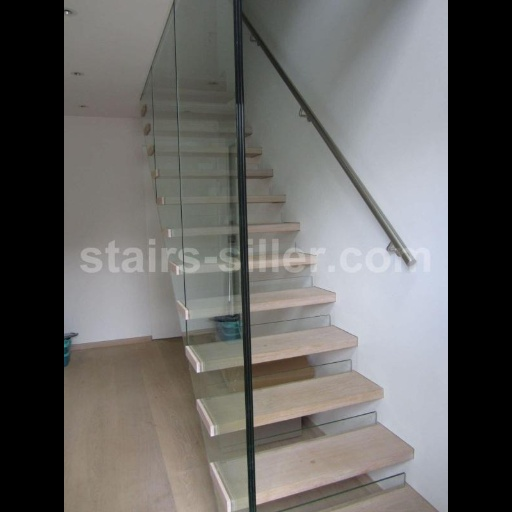Stairs: (245, 145, 413, 512), (149, 97, 248, 512)
